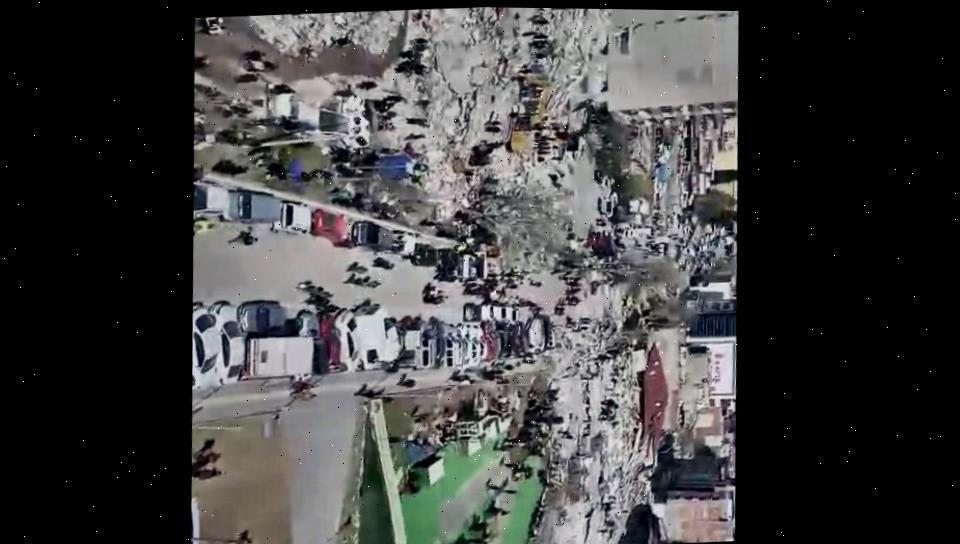kapali: (193, 9, 595, 237)
